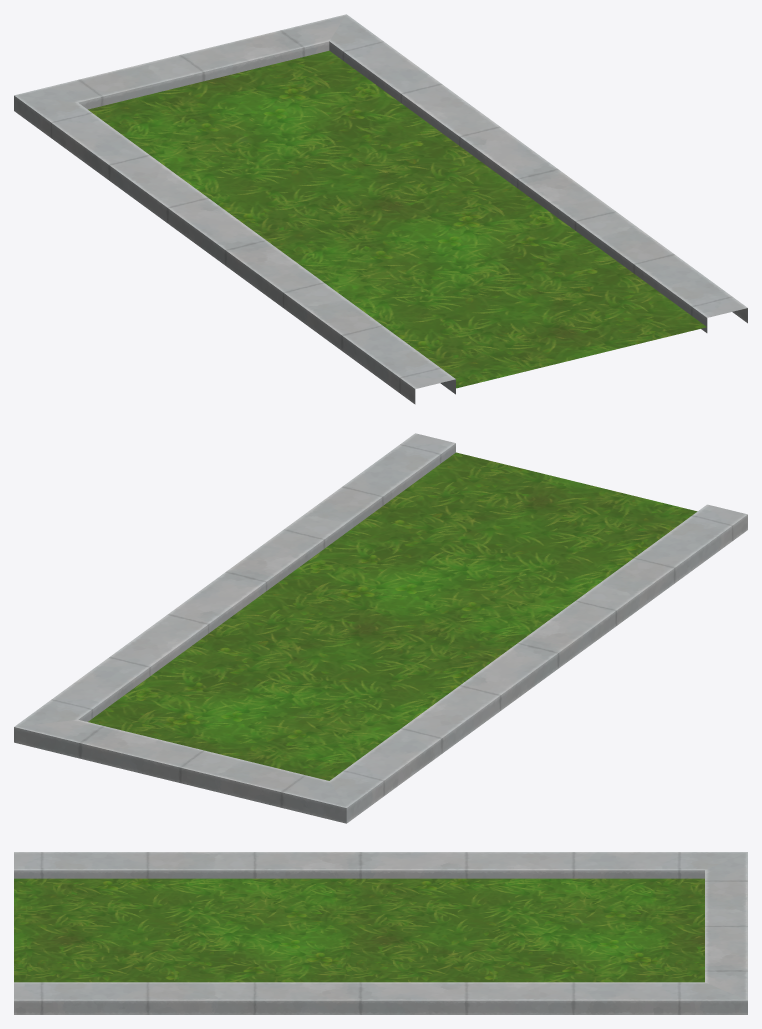
The model's file is flowerBed_low_01.fbx.
The picture shows the model from 3 angles, top to bottom: view 1: azimuth 30°, elevation 25°; view 2: azimuth 150°, elevation 25°; view 3: azimuth 270°, elevation 25°; orthographic projection. The views are drawn at different scales.
Visible parts, largest first — view 1: flowerBed_low_01; view 2: flowerBed_low_01; view 3: flowerBed_low_01.
Boxes of the visible parts, bbox=[...] form: flowerBed_low_01: bbox=[14, 14, 747, 404]; flowerBed_low_01: bbox=[14, 433, 747, 823]; flowerBed_low_01: bbox=[14, 852, 747, 1014].
Size of the model in its own units: 165 by 7.39 by 345.
